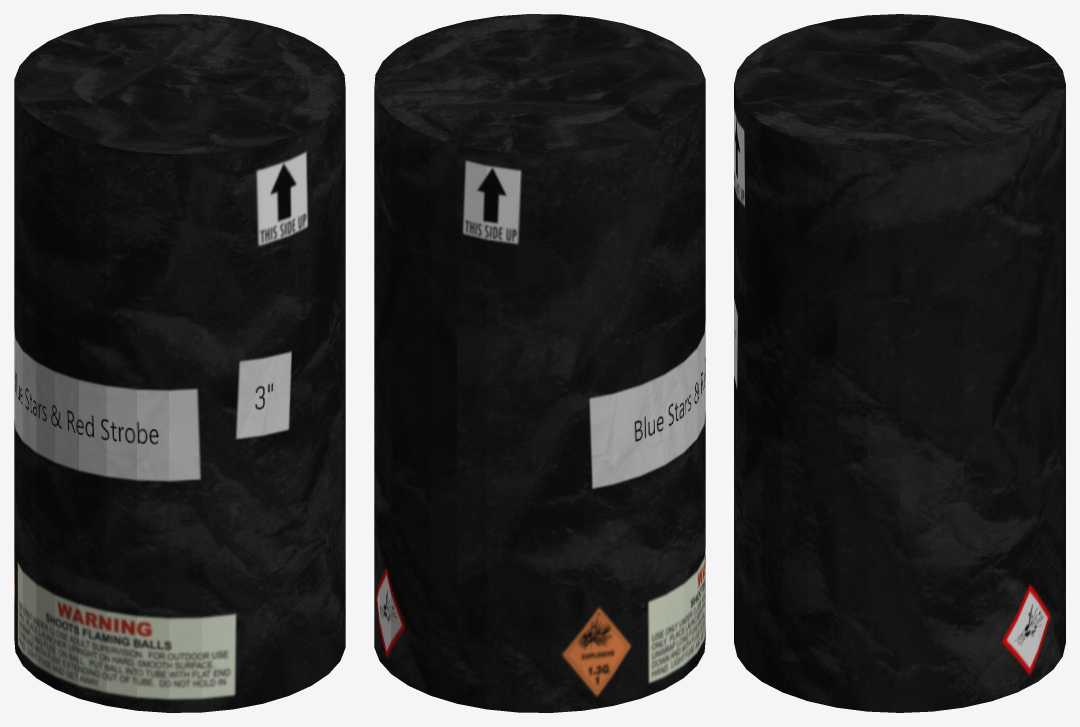
The model's file is Shell Canister 3 Inch BlueStarsRedStrobe.fbx.
The picture shows the model from 3 angles, left to right: view 1: azimuth 30°, elevation 25°; view 2: azimuth 150°, elevation 25°; view 3: azimuth 270°, elevation 25°; orthographic projection.
Parts seen in each view (by area): view 1: Cylinder; view 2: Cylinder; view 3: Cylinder.
Boxes of the visible parts, <box> form: Cylinder: <box>14,14,345,712</box>; Cylinder: <box>374,14,705,712</box>; Cylinder: <box>734,14,1065,712</box>.
Size of the model in its own units: 14 by 26 by 14.
